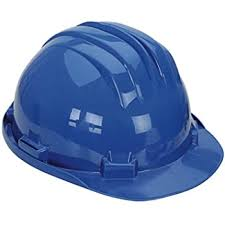casco: (1, 19, 225, 203)
